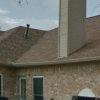Chimney: (52, 5, 90, 58)
